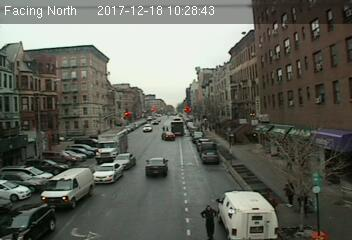car: (92, 162, 123, 183), (144, 156, 168, 176), (112, 151, 135, 167), (200, 151, 221, 164)
truck: (217, 191, 280, 240), (38, 166, 93, 207), (96, 129, 129, 160)
ups: (170, 121, 185, 137)
